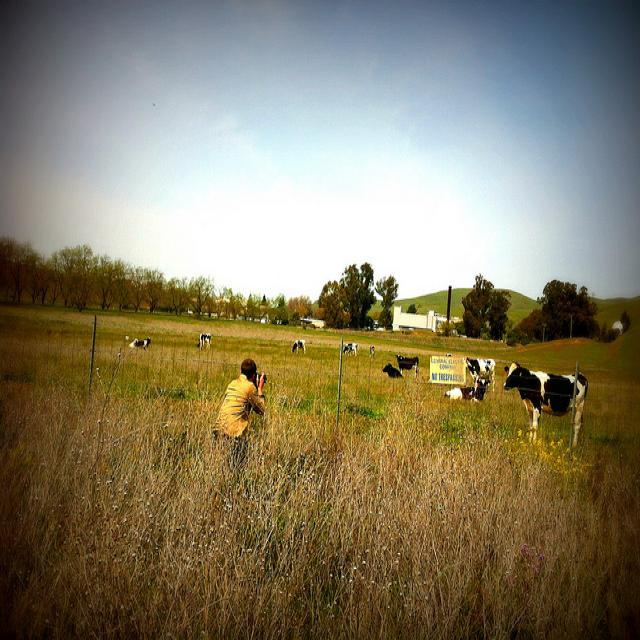cow: (501, 360, 586, 446), (462, 354, 495, 389), (443, 375, 489, 400), (393, 352, 417, 375), (381, 360, 402, 378), (197, 329, 211, 348), (342, 340, 358, 355), (290, 338, 305, 352), (137, 335, 150, 347), (127, 336, 137, 346)
